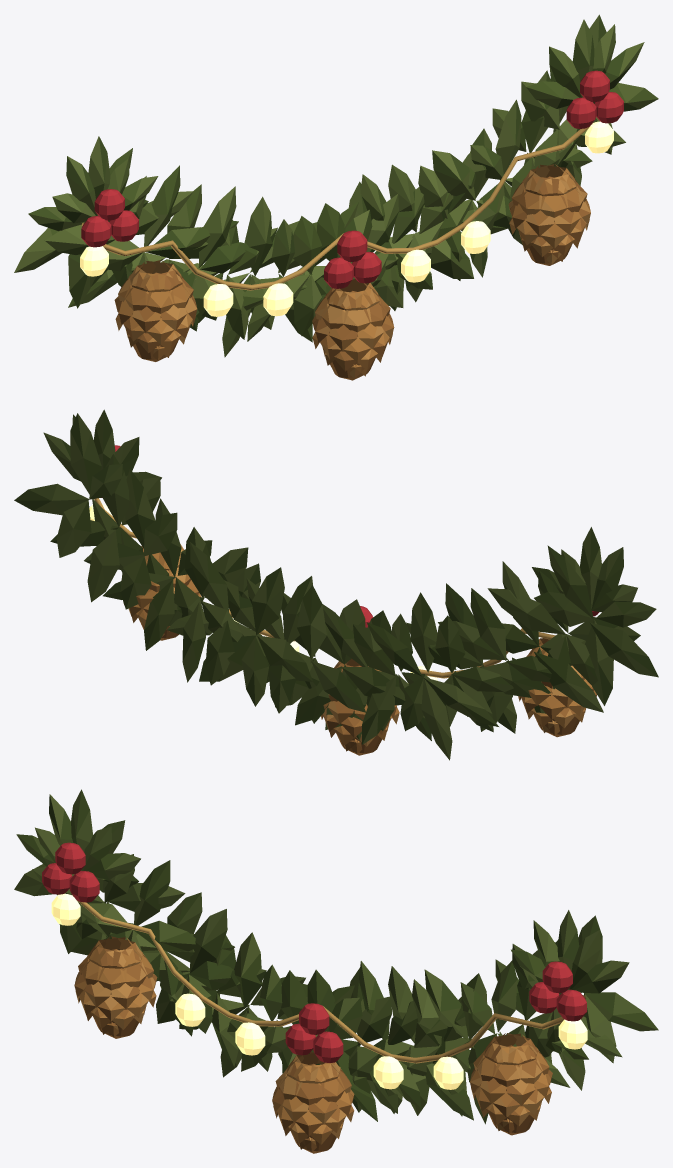
File: 04 Christmas Garland.glb
The picture shows the model from 3 angles, top to bottom: view 1: azimuth 30°, elevation 25°; view 2: azimuth 150°, elevation 25°; view 3: azimuth 330°, elevation 25°; orthographic projection.
Visible parts, largest first — view 1: Pinecone heart.001; view 2: Pinecone heart.001; view 3: Pinecone heart.001.
Boxes of the visible parts, bbox=[...] form: Pinecone heart.001: bbox=[14, 14, 658, 380]; Pinecone heart.001: bbox=[14, 409, 658, 760]; Pinecone heart.001: bbox=[14, 789, 658, 1153].
Size of the model in its own units: 9.15 by 4.02 by 1.07.
